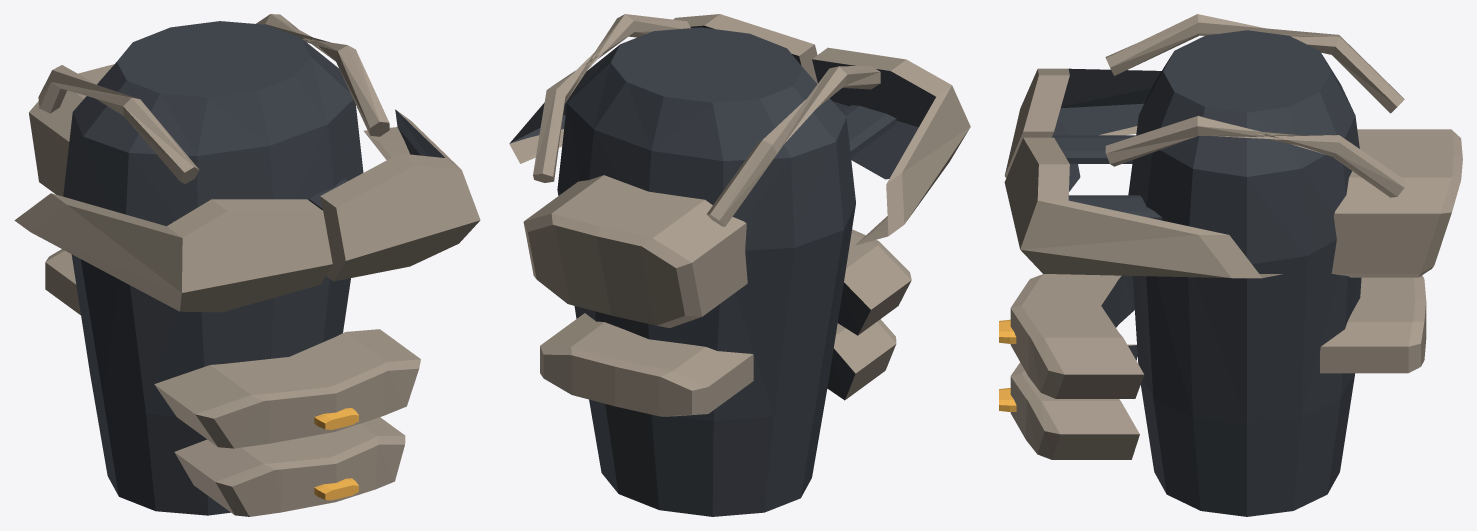
Rendered from torso_light.glb.
The picture shows the model from 3 angles, left to right: view 1: azimuth 30°, elevation 25°; view 2: azimuth 150°, elevation 25°; view 3: azimuth 270°, elevation 25°; orthographic projection. The views are drawn at different scales.
Parts seen in each view (by area): view 1: torso_light; view 2: torso_light; view 3: torso_light.
Part boxes in pixels (x1,y1,x2,y2): torso_light: (14,14,480,516); torso_light: (509,14,970,516); torso_light: (999,14,1462,516).
Size of the model in its own units: 0.9676 by 1.02 by 1.05.
